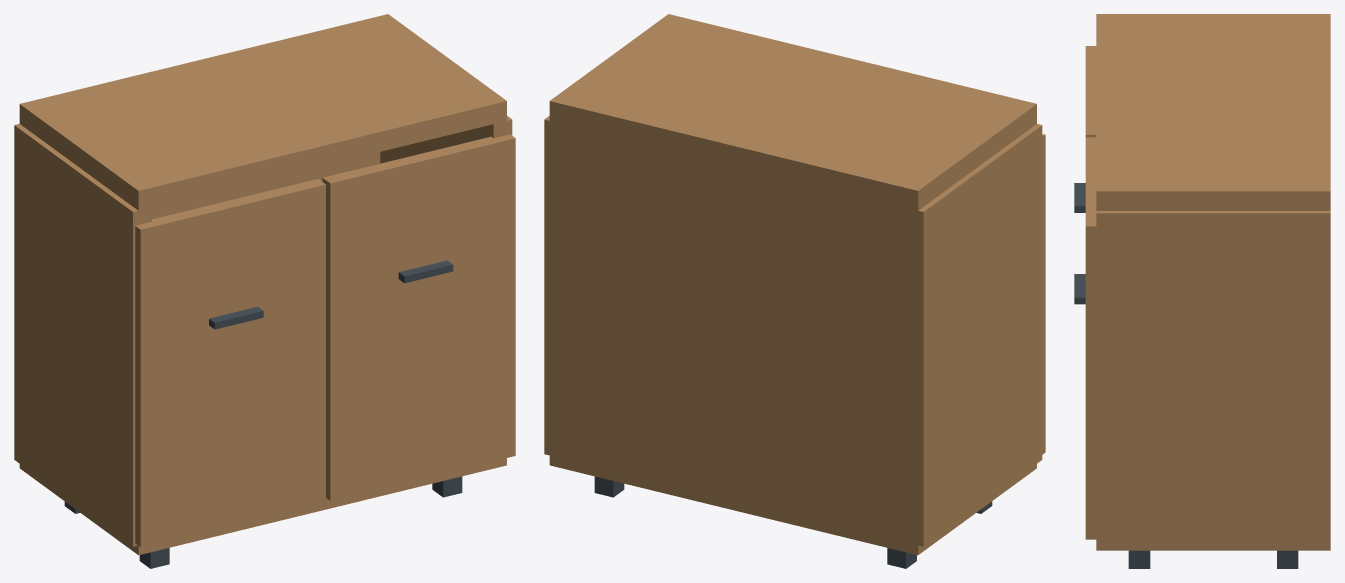
Rendered from storage-3.glb.
3 views of the same model, side by side, from view 1: azimuth 30°, elevation 25°; view 2: azimuth 150°, elevation 25°; view 3: azimuth 270°, elevation 25° (orthographic).
Visible parts, largest first — view 1: storage:3:editor; view 2: storage:3:editor; view 3: storage:3:editor.
Part boxes in pixels (x1,y1,x2,y2): storage:3:editor: [14, 14, 515, 568]; storage:3:editor: [544, 14, 1045, 568]; storage:3:editor: [1074, 14, 1330, 568].
Bounding box in the file's own units: 0.7 × 0.7 × 0.416.
